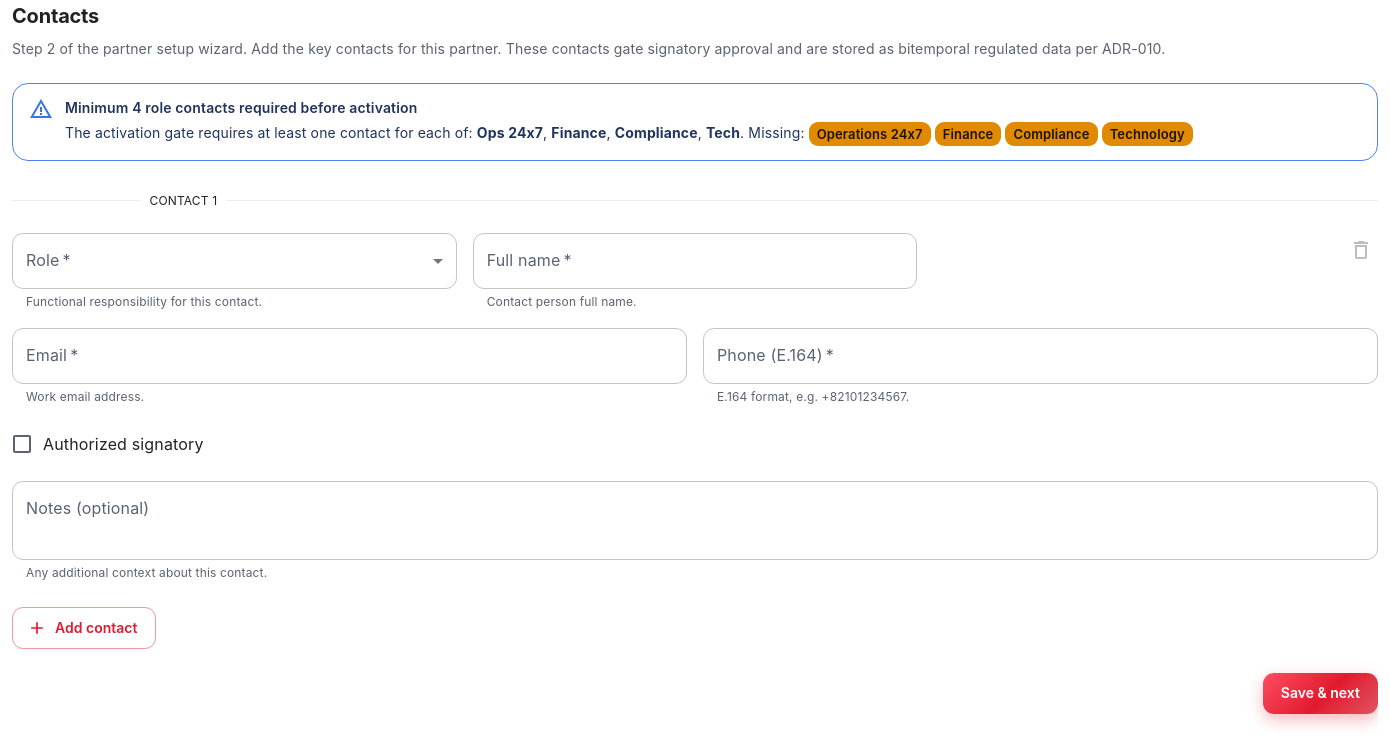
ContactsForm › adds a new row when "Add contact" is clicked
What coordinates should you click on to do the following:
click the button "Add contact"
I would click on:
 (84, 628)
Its box is left=12, top=607, right=156, bottom=649.
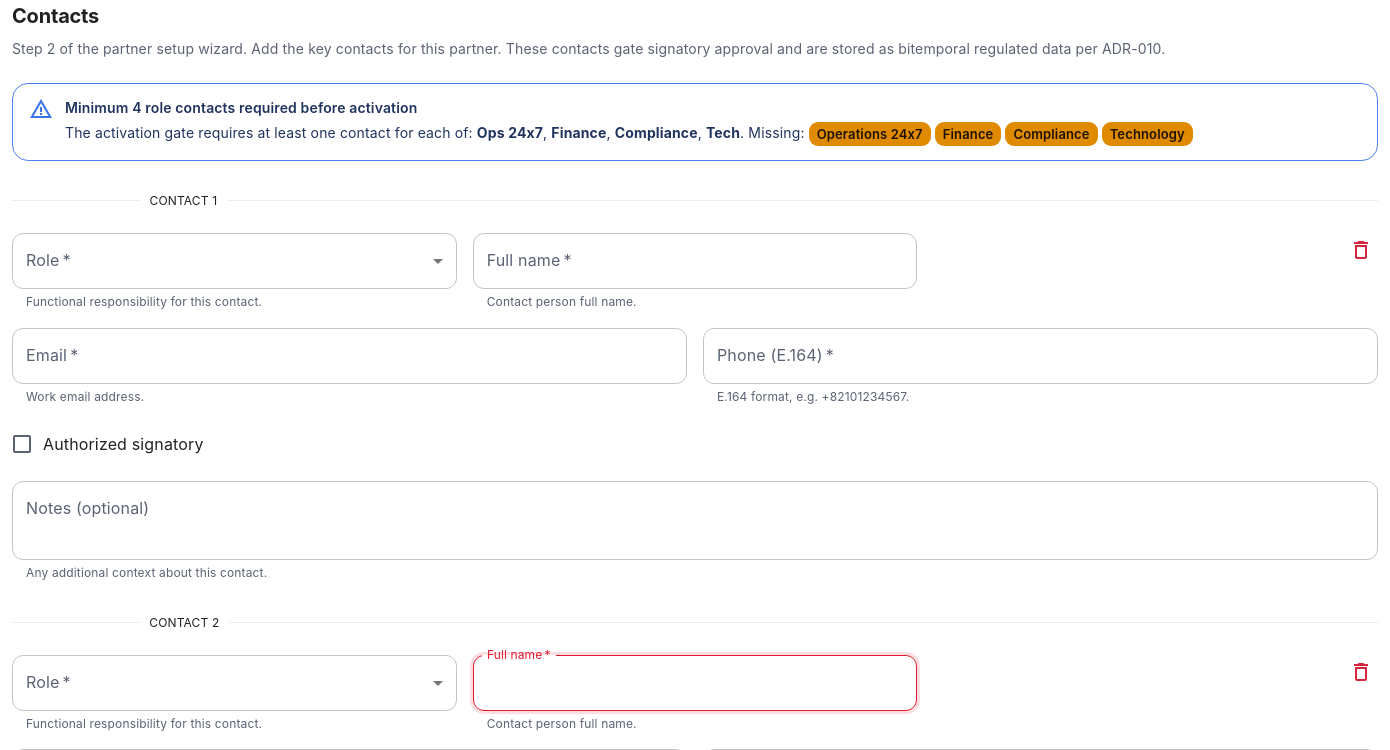
Check: the field named "contacts[1].name" is shown, box left=473, top=655, right=917, bottom=711
